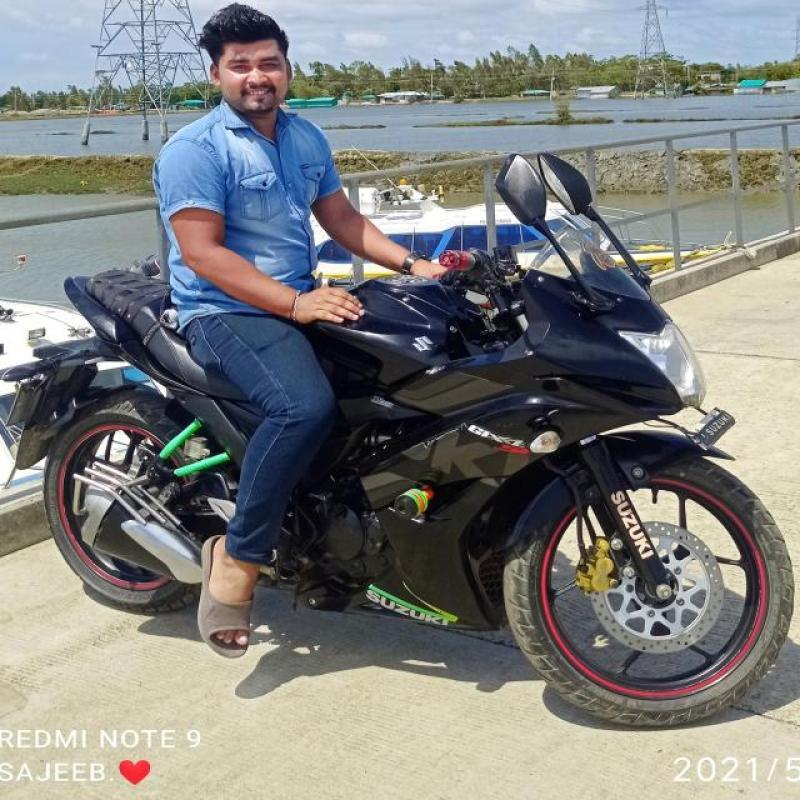nohelmet: (174, 8, 310, 123)
